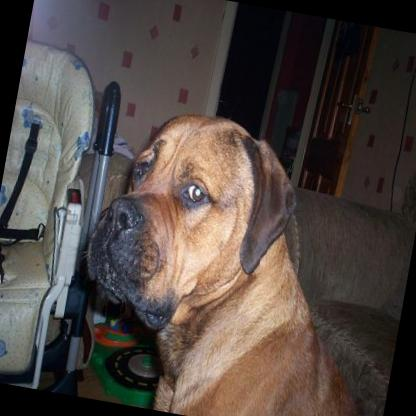bull_mastiff: (61, 99, 416, 416)
